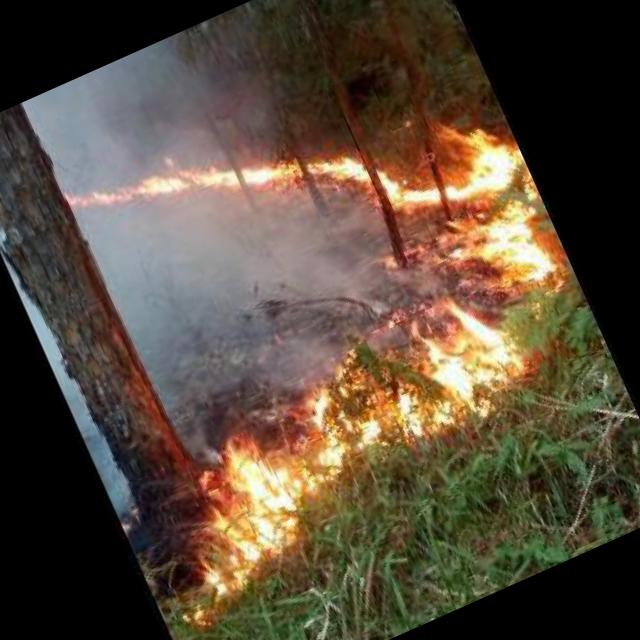fire: (66, 20, 526, 351), (142, 310, 570, 610), (410, 190, 564, 329)
